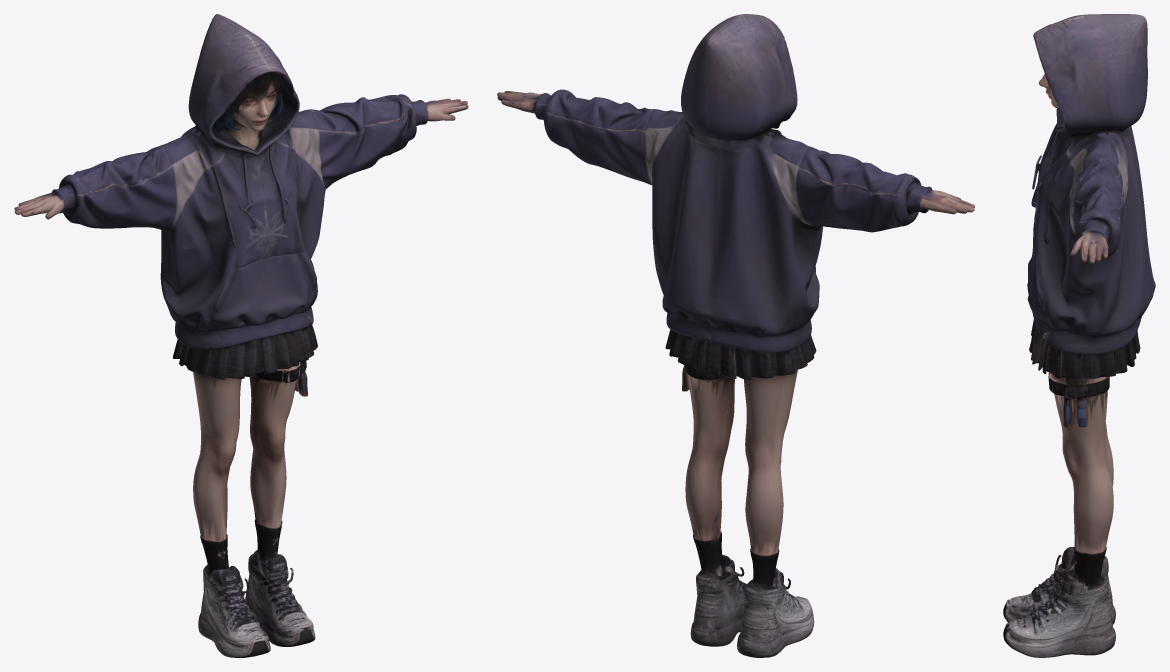
File: tripo_convert_6433b16f-b062-421a-99a9-77da3360c240.fbx
3 views of the same model, side by side, from view 1: azimuth 30°, elevation 25°; view 2: azimuth 150°, elevation 25°; view 3: azimuth 270°, elevation 25° (orthographic). The views are drawn at different scales.
Parts seen in each view (by area): view 1: tripo_node_6433b16f; view 2: tripo_node_6433b16f; view 3: tripo_node_6433b16f.
Boxes of the visible parts, left/top/right/bottom form: tripo_node_6433b16f: left=14, top=14, right=468, bottom=657; tripo_node_6433b16f: left=497, top=14, right=974, bottom=657; tripo_node_6433b16f: left=1003, top=14, right=1155, bottom=657.
Size of the model in its own units: 0.7946 by 1 by 0.2223.
1 material, 1 textured.
